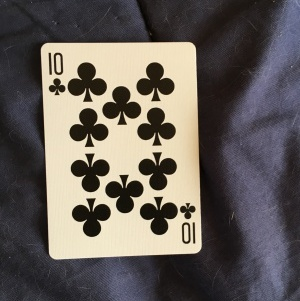card: (40, 40, 205, 261)
